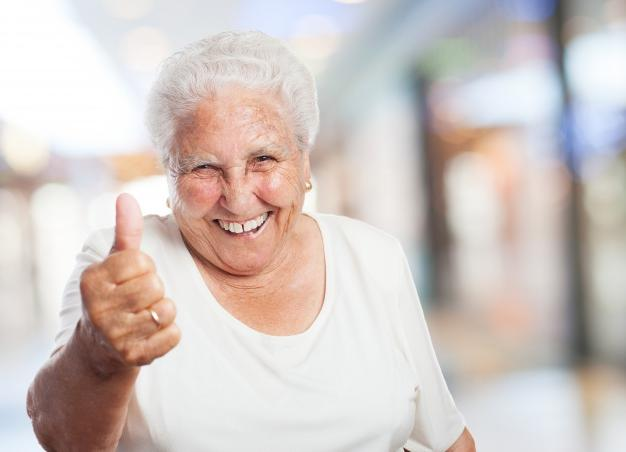thumbsup: (79, 193, 181, 367)
